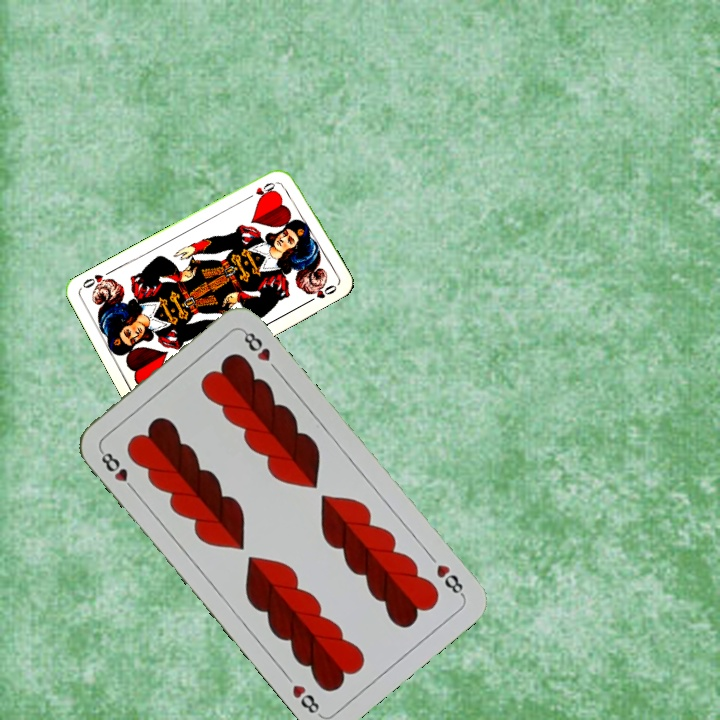H8: (96, 446, 139, 495), (432, 560, 467, 600)
HO: (244, 177, 283, 202)
